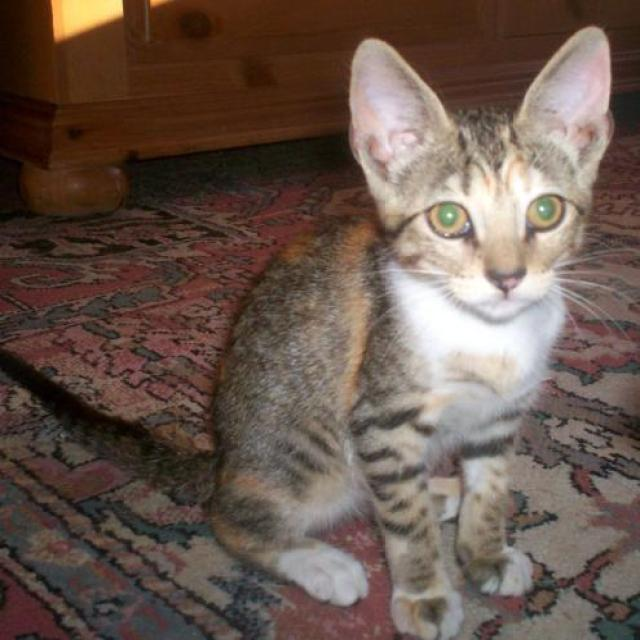cats: (0, 25, 615, 640)
